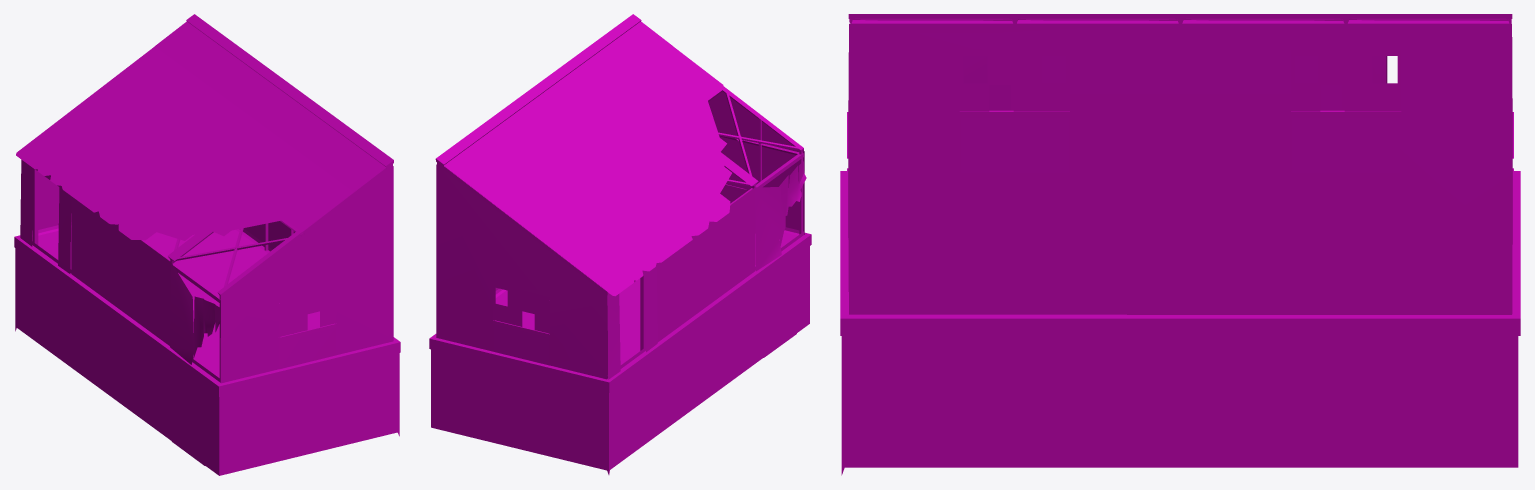
The model's file is industrial_bld_f_COL.fbx.
The picture shows the model from 3 angles, left to right: view 1: azimuth 30°, elevation 25°; view 2: azimuth 150°, elevation 25°; view 3: azimuth 270°, elevation 25°; orthographic projection. The views are drawn at different scales.
Parts seen in each view (by area): view 1: industrial_bld_f_COL; view 2: industrial_bld_f_COL; view 3: industrial_bld_f_COL.
Part boxes in pixels (box(x1,y1,x2,y2)): industrial_bld_f_COL: box(14, 14, 400, 475); industrial_bld_f_COL: box(429, 14, 811, 474); industrial_bld_f_COL: box(840, 14, 1520, 475).
Bounding box in the file's own units: 641 × 918 × 1233.
